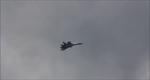maybay_muctieu: (60, 40, 83, 52)
